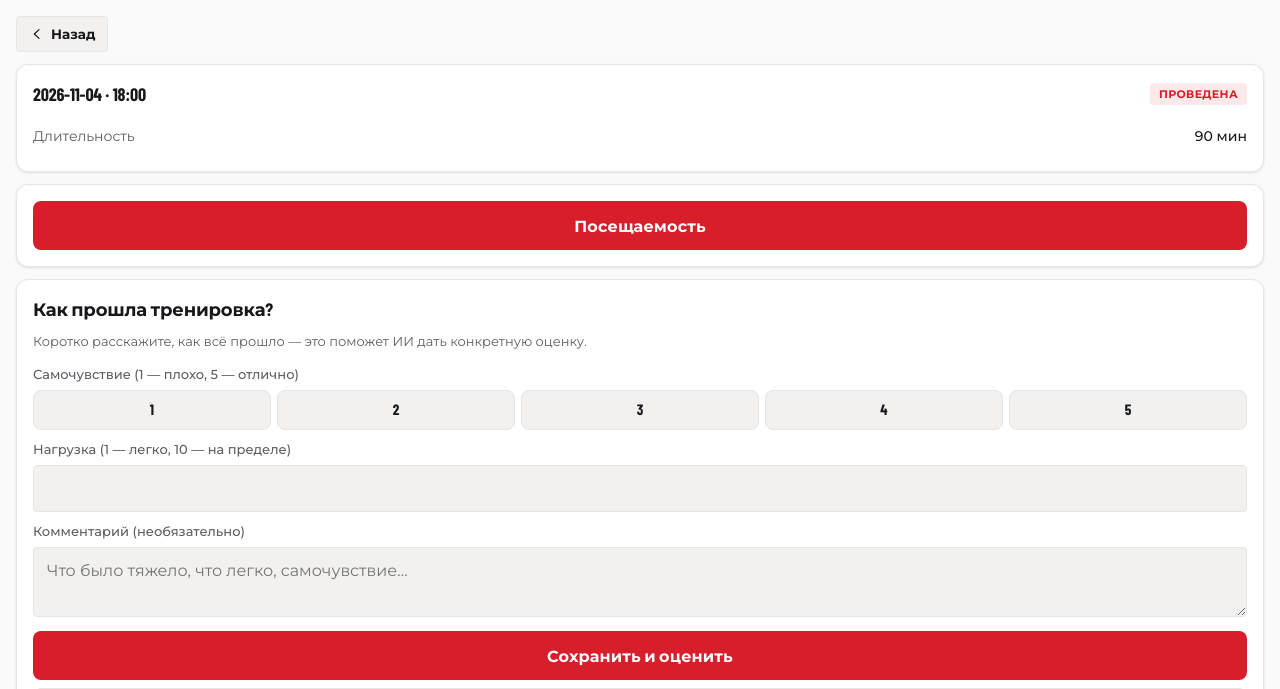
Test: after a team training is marked as held › keeps the player's own prompt: wellbeing, then the AI evaluation
Expected: the heading "Как прошла тренировка?" is shown, [33,298,273,320]
Expected: the text "Самочувствие (1 — плохо, 5 — отлично)" is shown, [33,366,299,382]
What coordinates should you click on to do the following:
click the button "5"
I would click on:
 (1128, 410)
Its box is [1009,390,1247,430].
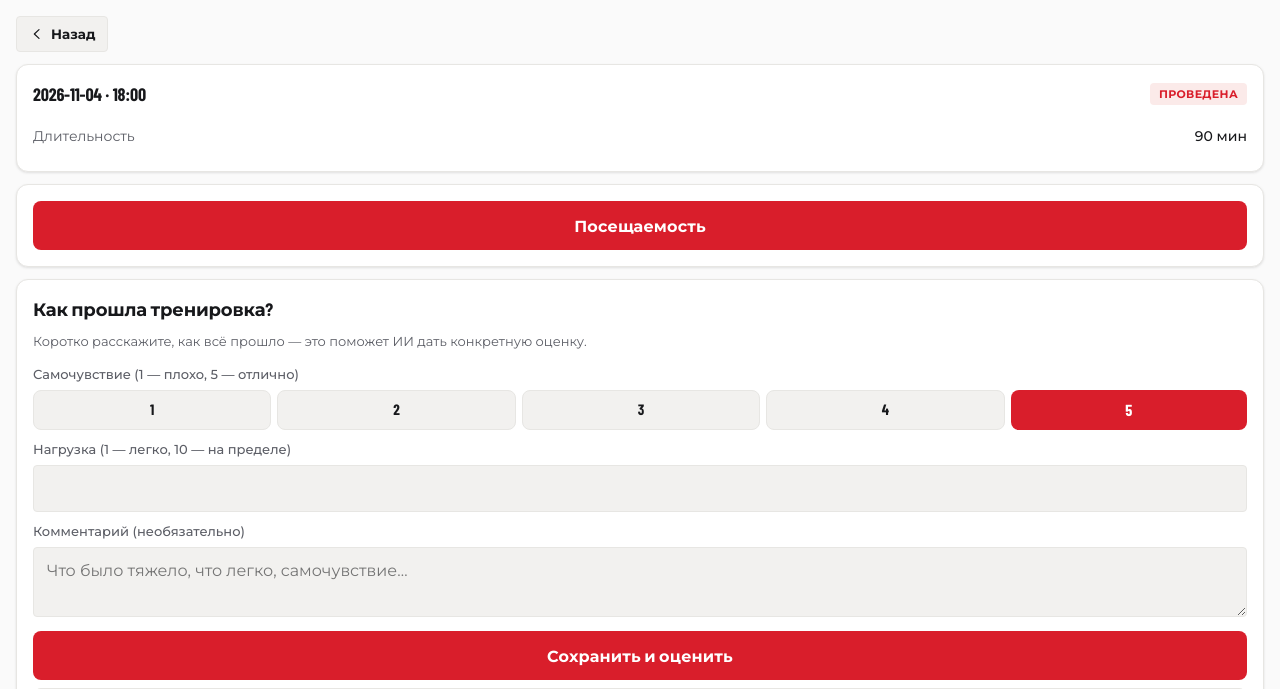
What coordinates should you click on to do the following:
click the button "Сохранить и оценить"
I would click on:
 (640, 656)
Its box is [33,631,1247,680].
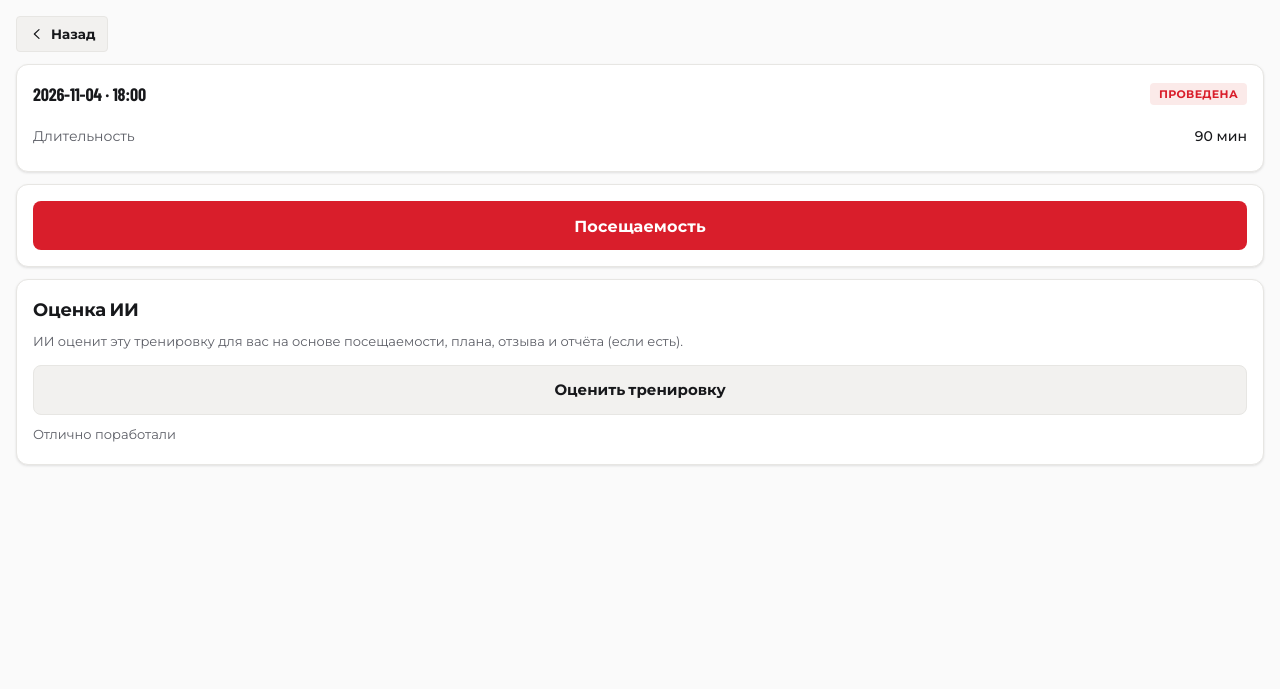
Expected: the text "Отлично поработали" is shown, [33,426,176,442]
